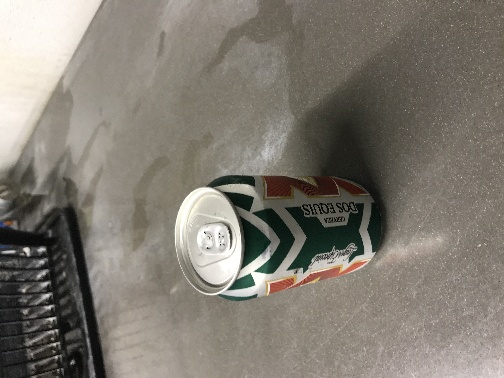DEL: (124, 127, 278, 220)
